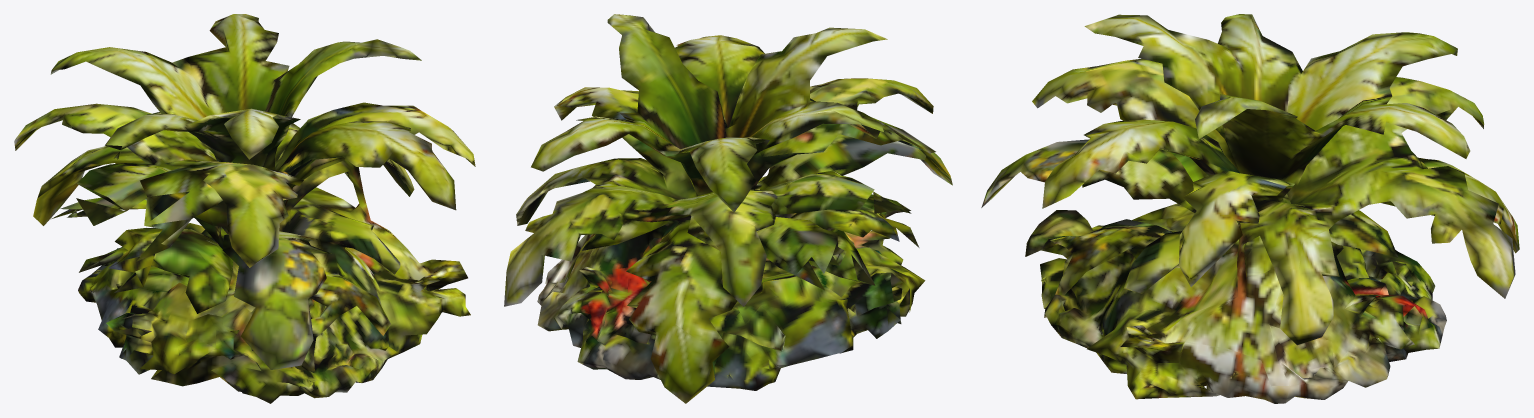
File: SummerDecor_SecondRoom_JungleBush.fbx
The picture shows the model from 3 angles, left to right: view 1: azimuth 30°, elevation 25°; view 2: azimuth 150°, elevation 25°; view 3: azimuth 270°, elevation 25°; orthographic projection. The views are drawn at different scales.
Visible parts, largest first — view 1: SummerDecor_SecondRoom_JungleBush_Mesh; view 2: SummerDecor_SecondRoom_JungleBush_Mesh; view 3: SummerDecor_SecondRoom_JungleBush_Mesh.
Boxes of the visible parts, x1=… form: SummerDecor_SecondRoom_JungleBush_Mesh: x1=14, y1=14, x2=475, y2=403; SummerDecor_SecondRoom_JungleBush_Mesh: x1=504, y1=14, x2=952, y2=403; SummerDecor_SecondRoom_JungleBush_Mesh: x1=981, y1=14, x2=1519, y2=403.
Bounding box in the file's own units: 4.95 × 3.37 × 6.
Materials: 1 (1 with a texture image).
